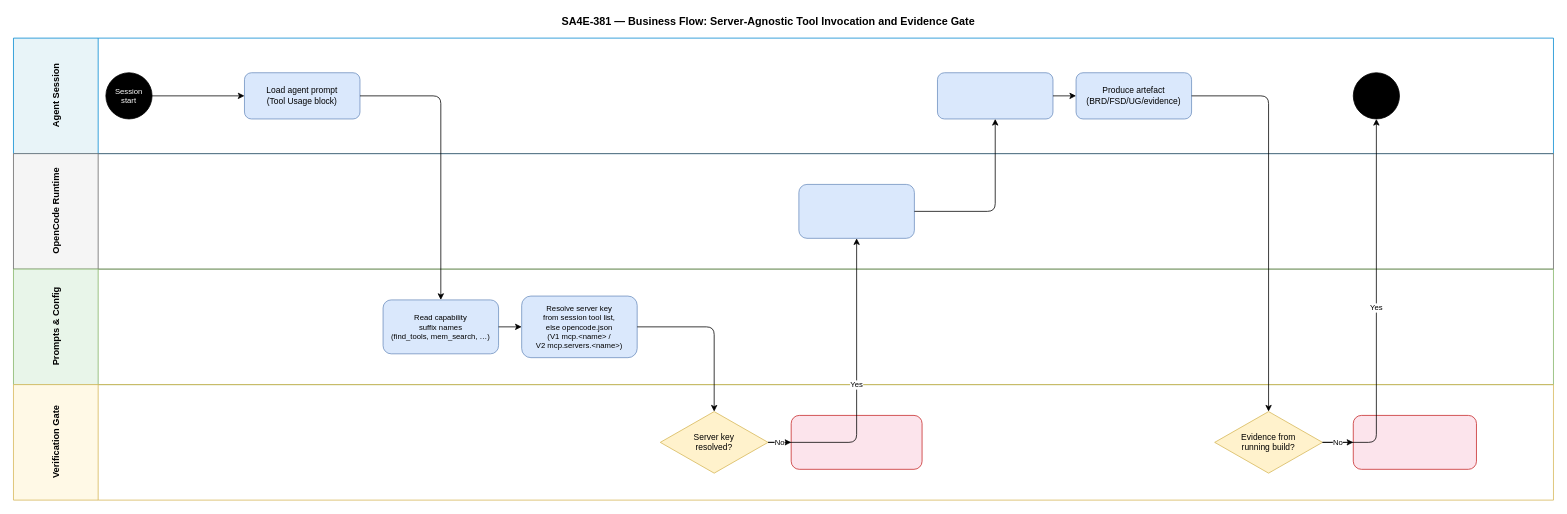
Some shapes in this 1567 by 514 pixel diagram are drawn without their labels. The shapes that lost their labels are listed below. From the top down, each one's box as (x1, y1, x2, y2) in pixels, then its label:
(937, 72, 1053, 119): Execute tool call
(1353, 72, 1399, 119): Accepted
(798, 184, 914, 238): Resolve concrete tool ID (<server>_<tool> | tools.<server>.<tool>)
(790, 415, 922, 469): Report unresolved server key (abort call)
(1353, 415, 1476, 469): Mark [SCREENSHOT REQUIRED: reason] + block gate
